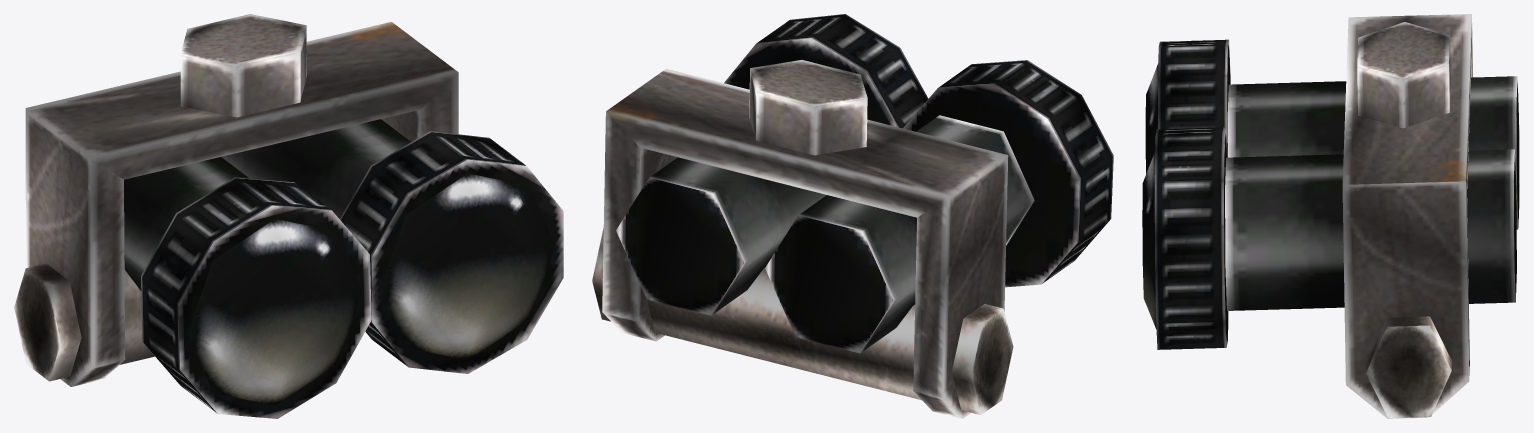
File: Robot01.Head1.fbx
The picture shows the model from 3 angles, left to right: view 1: azimuth 30°, elevation 25°; view 2: azimuth 150°, elevation 25°; view 3: azimuth 270°, elevation 25°; orthographic projection. The views are drawn at different scales.
Visible parts, largest first — view 1: Robot01.Head1; view 2: Robot01.Head1; view 3: Robot01.Head1.
Boxes of the visible parts, <box> form: Robot01.Head1: <box>14,14,563,418</box>; Robot01.Head1: <box>592,14,1113,418</box>; Robot01.Head1: <box>1142,14,1519,418</box>.
Size of the model in its own units: 38.82 by 27.56 by 33.13.
